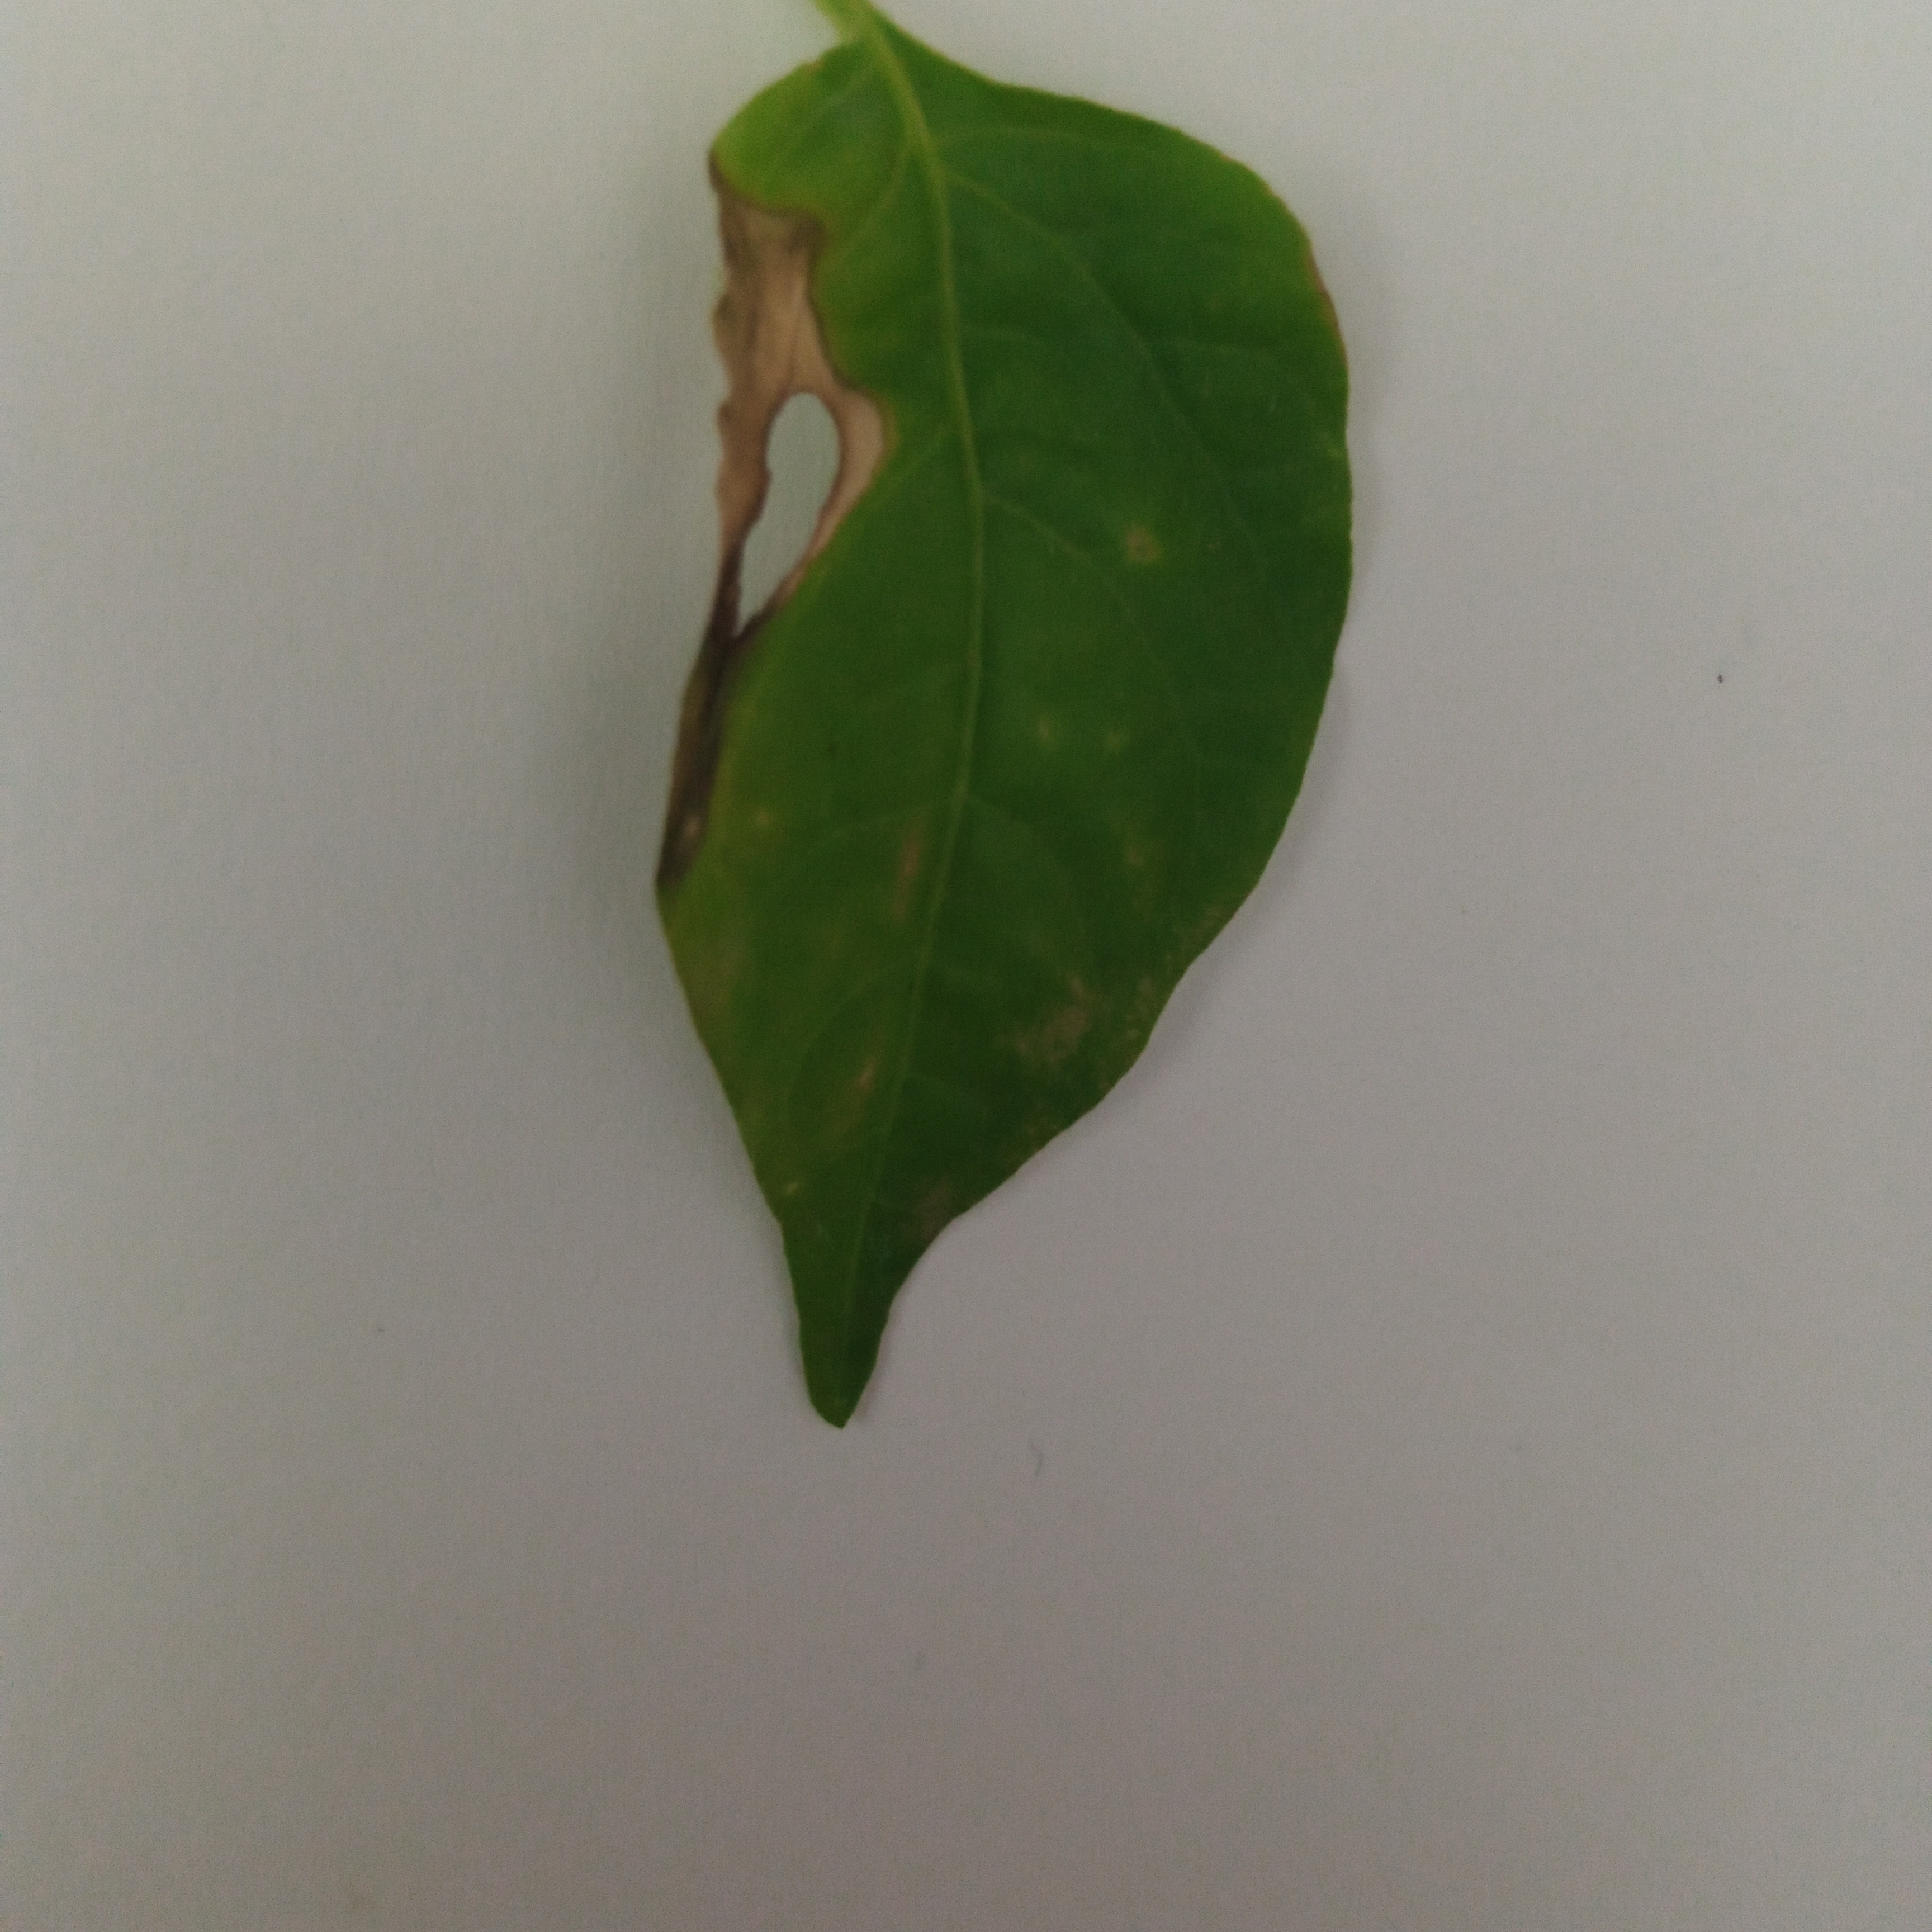Leaf: (264, 35, 1530, 1507)
